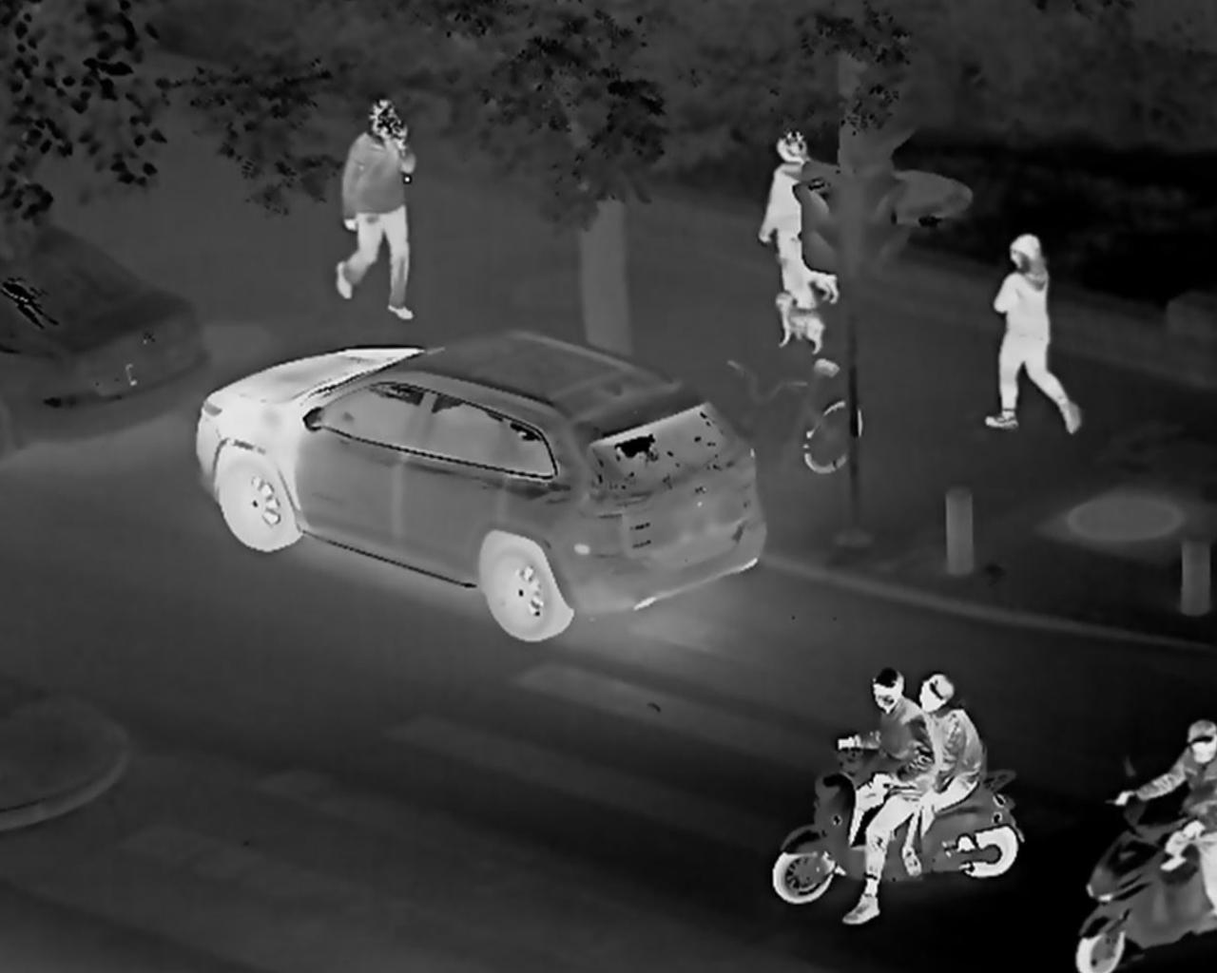person: (828, 669, 927, 932), (982, 232, 1087, 437), (330, 95, 420, 322), (1111, 711, 1217, 902), (761, 129, 844, 320), (905, 677, 983, 876)
